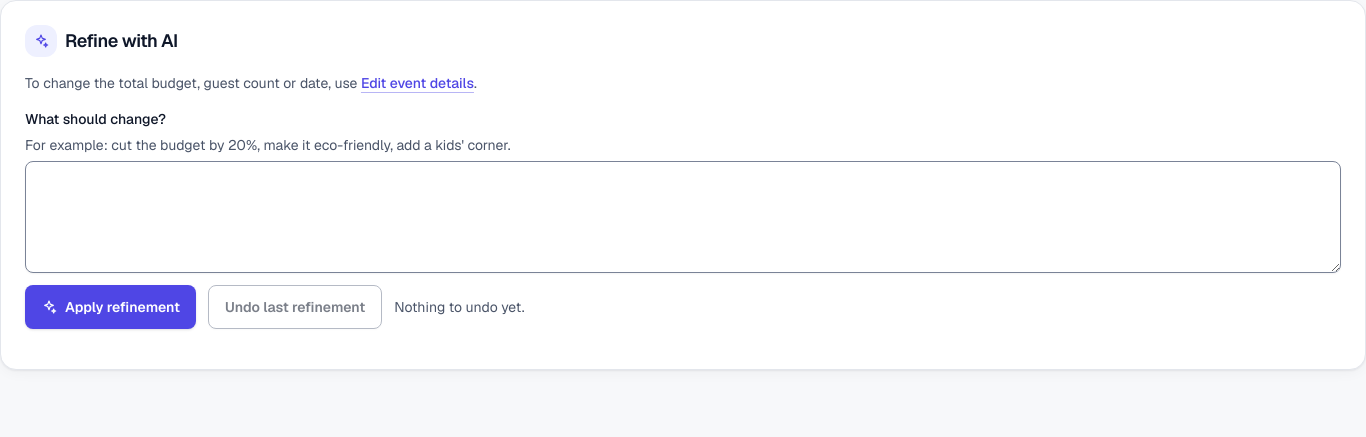
Test: RefinePanel › reports when nothing changed
Type "no-op please" into the text box labelled "What should change?" at (683, 217), box [25, 161, 1341, 273]
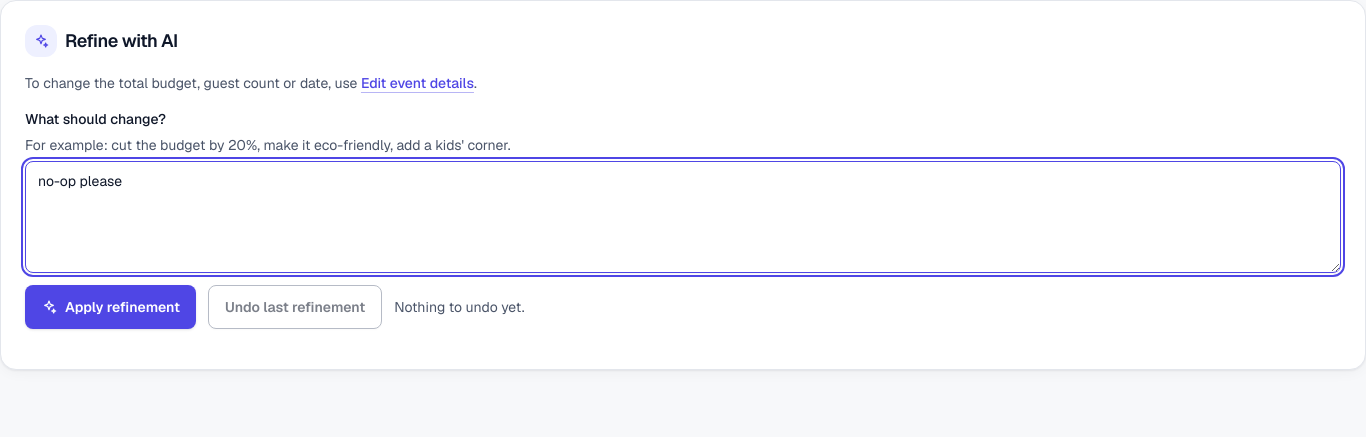
Click the button "Apply refinement" at (110, 307), box [25, 285, 196, 329]
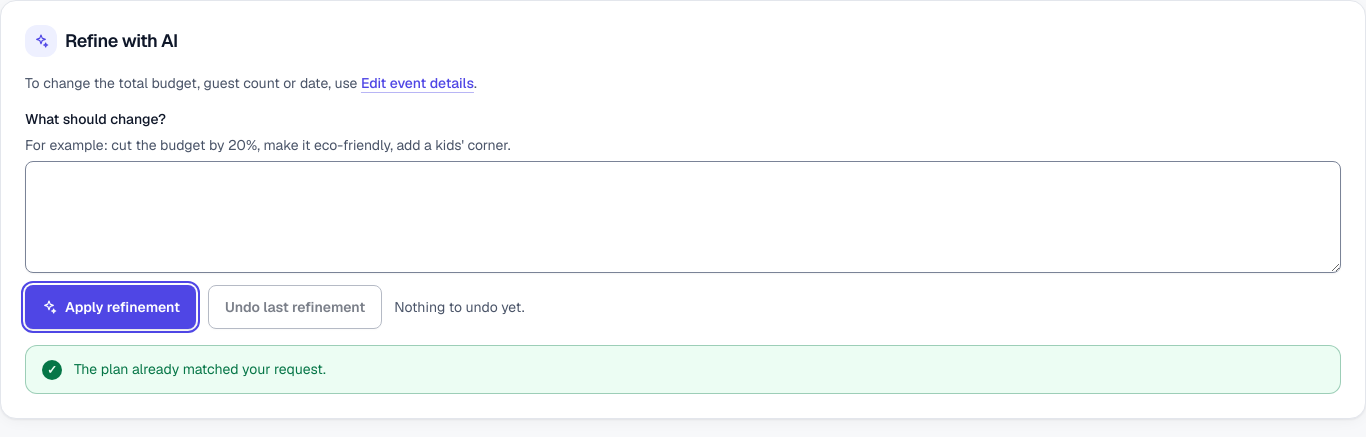
Now the text "The plan already matched your request." is shown, box [74, 358, 326, 381]
